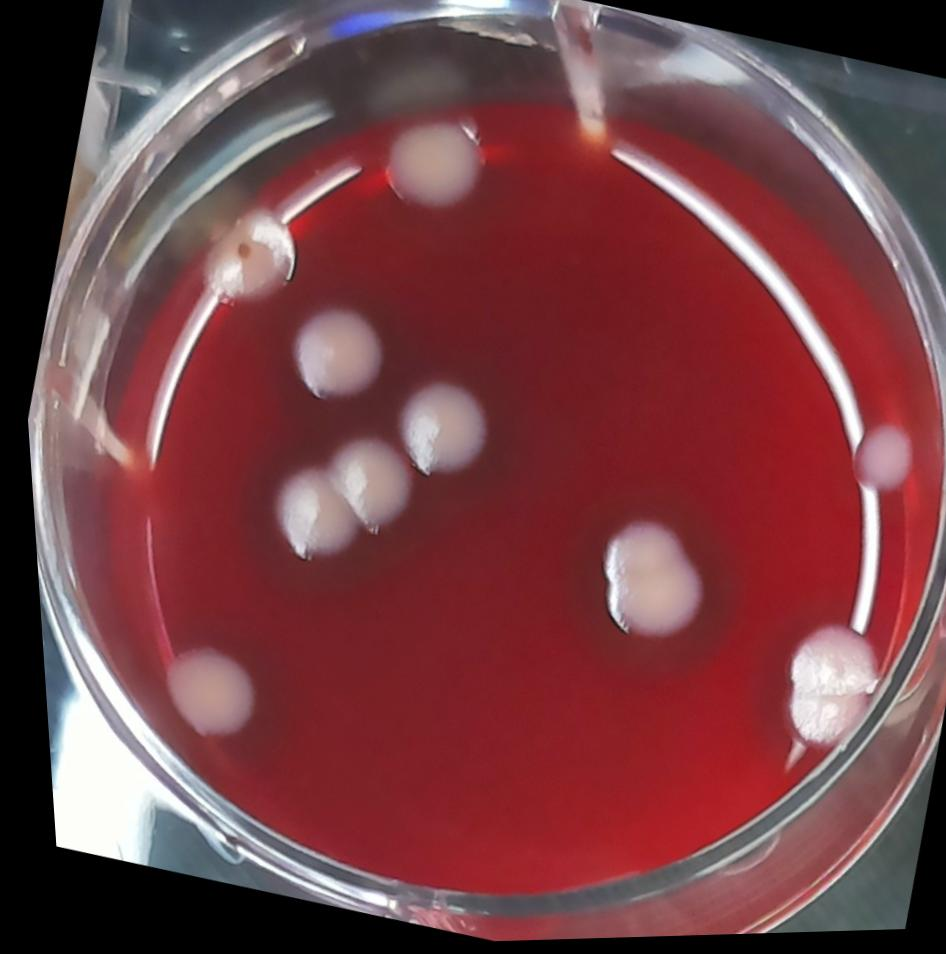bcereus: (228, 407, 430, 595), (552, 499, 734, 669), (256, 279, 409, 426), (170, 185, 317, 338), (358, 83, 510, 228), (130, 624, 271, 755), (371, 365, 507, 496)
